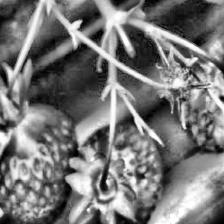Gray Mold: (151, 48, 210, 120)
